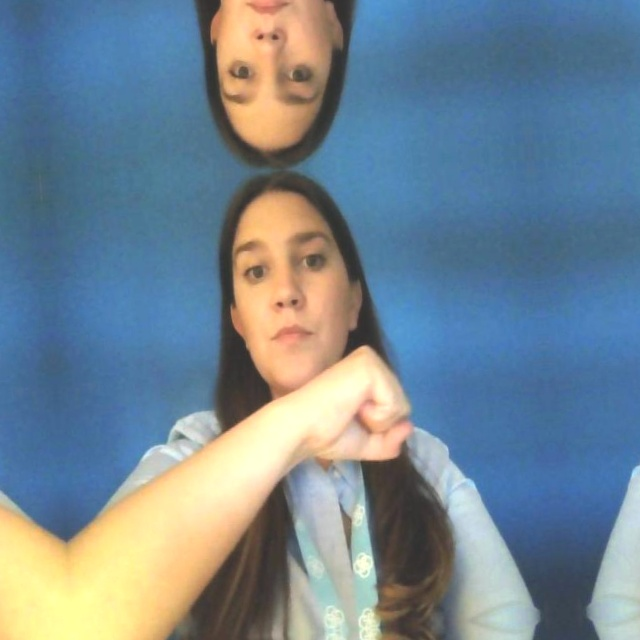Rock: (286, 344, 419, 483)
